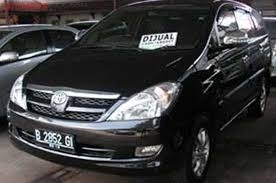plate: (34, 128, 73, 152)
